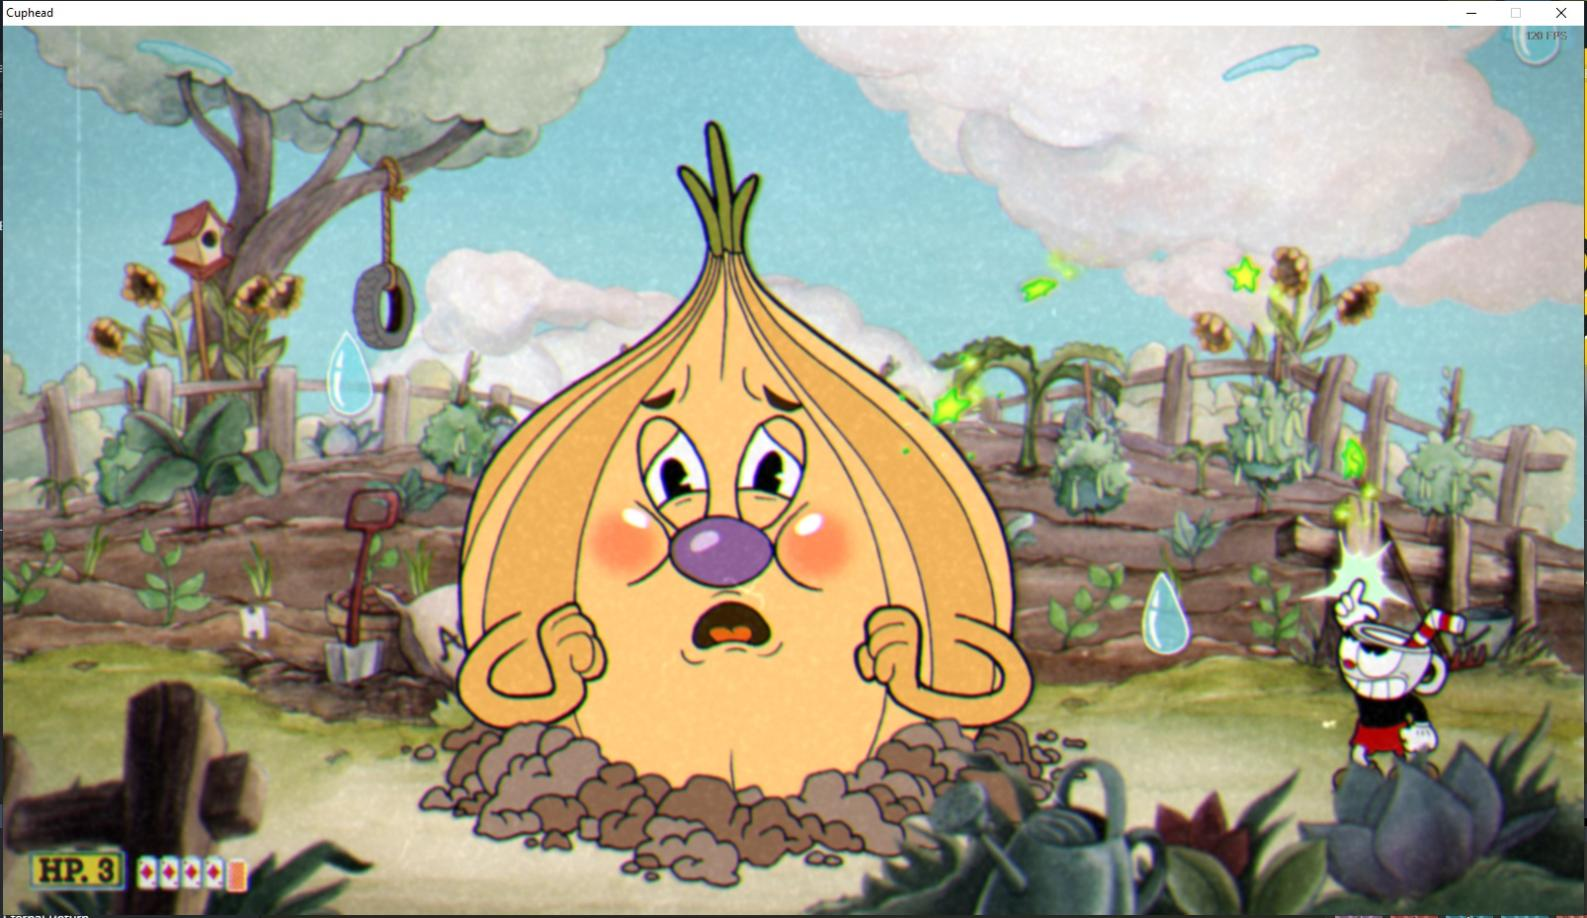hp3: (93, 854, 124, 890)
onion_boss: (445, 113, 1050, 836)
player: (1316, 568, 1475, 804)
rain: (1129, 559, 1200, 665), (316, 328, 383, 427), (1505, 24, 1568, 73)
